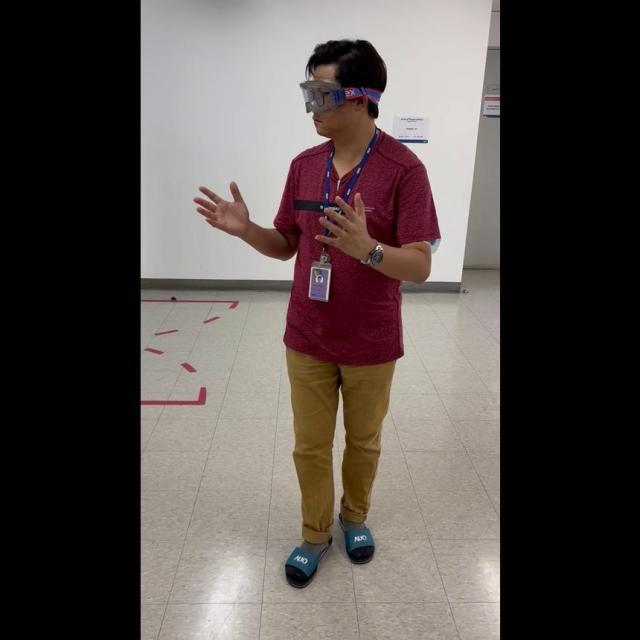bare_hand: (313, 185, 380, 262), (192, 175, 247, 234)
